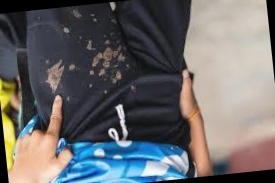earth: (87, 39, 125, 85), (43, 58, 69, 90)
